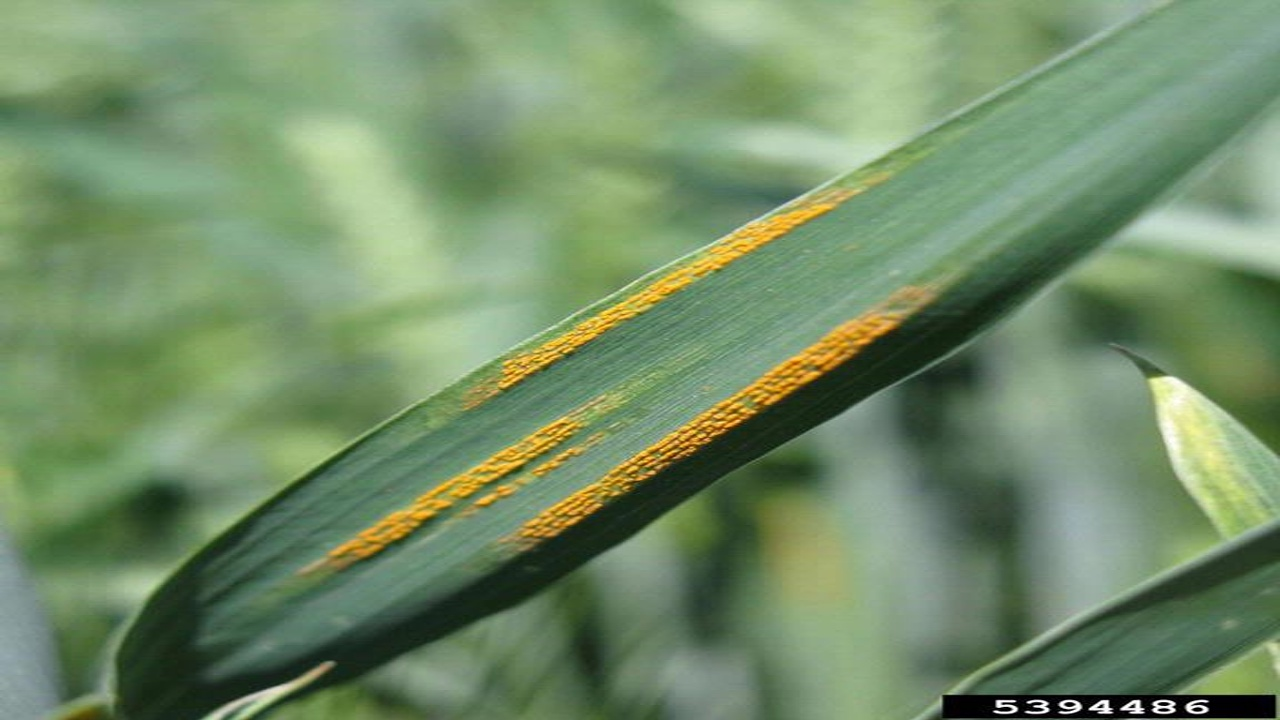stripe_rust: (109, 2, 1280, 714)
